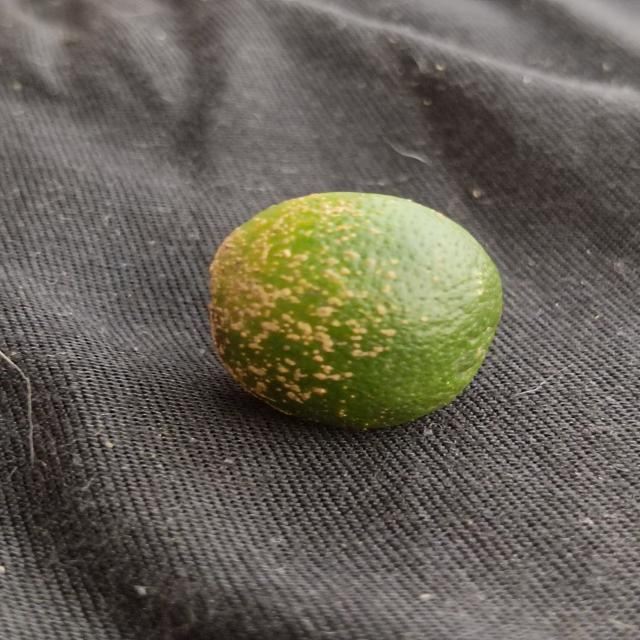scab: (185, 186, 508, 431)
